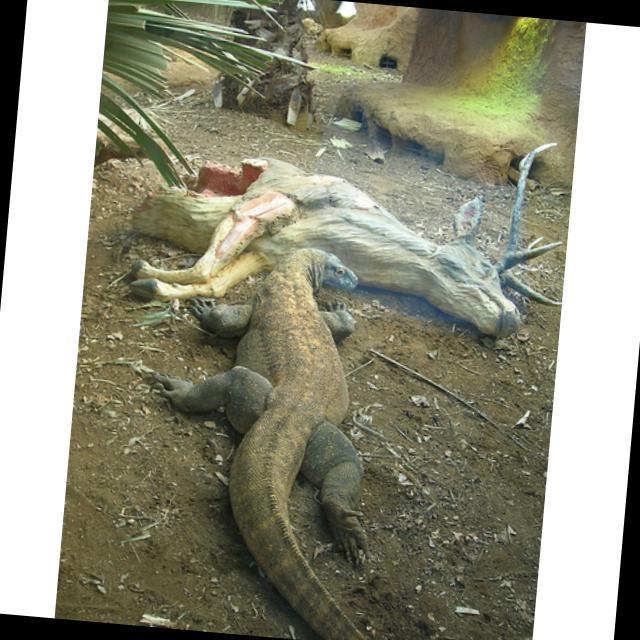KomodoDragon: (119, 229, 409, 640)
